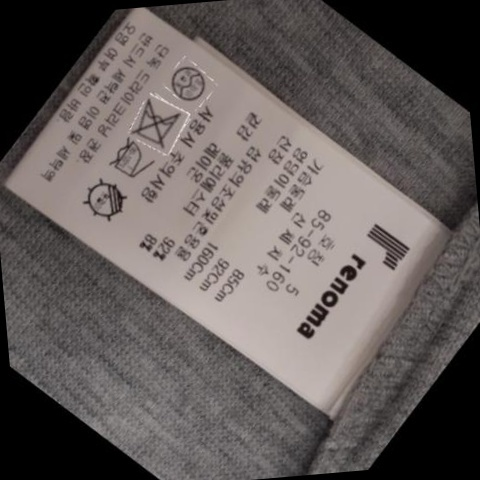DN_wash: (132, 100, 186, 147)
dry_clean_petrol_only: (169, 61, 211, 102)
iron_low: (106, 140, 154, 182)
line_dry_in_shade: (83, 179, 135, 222)
